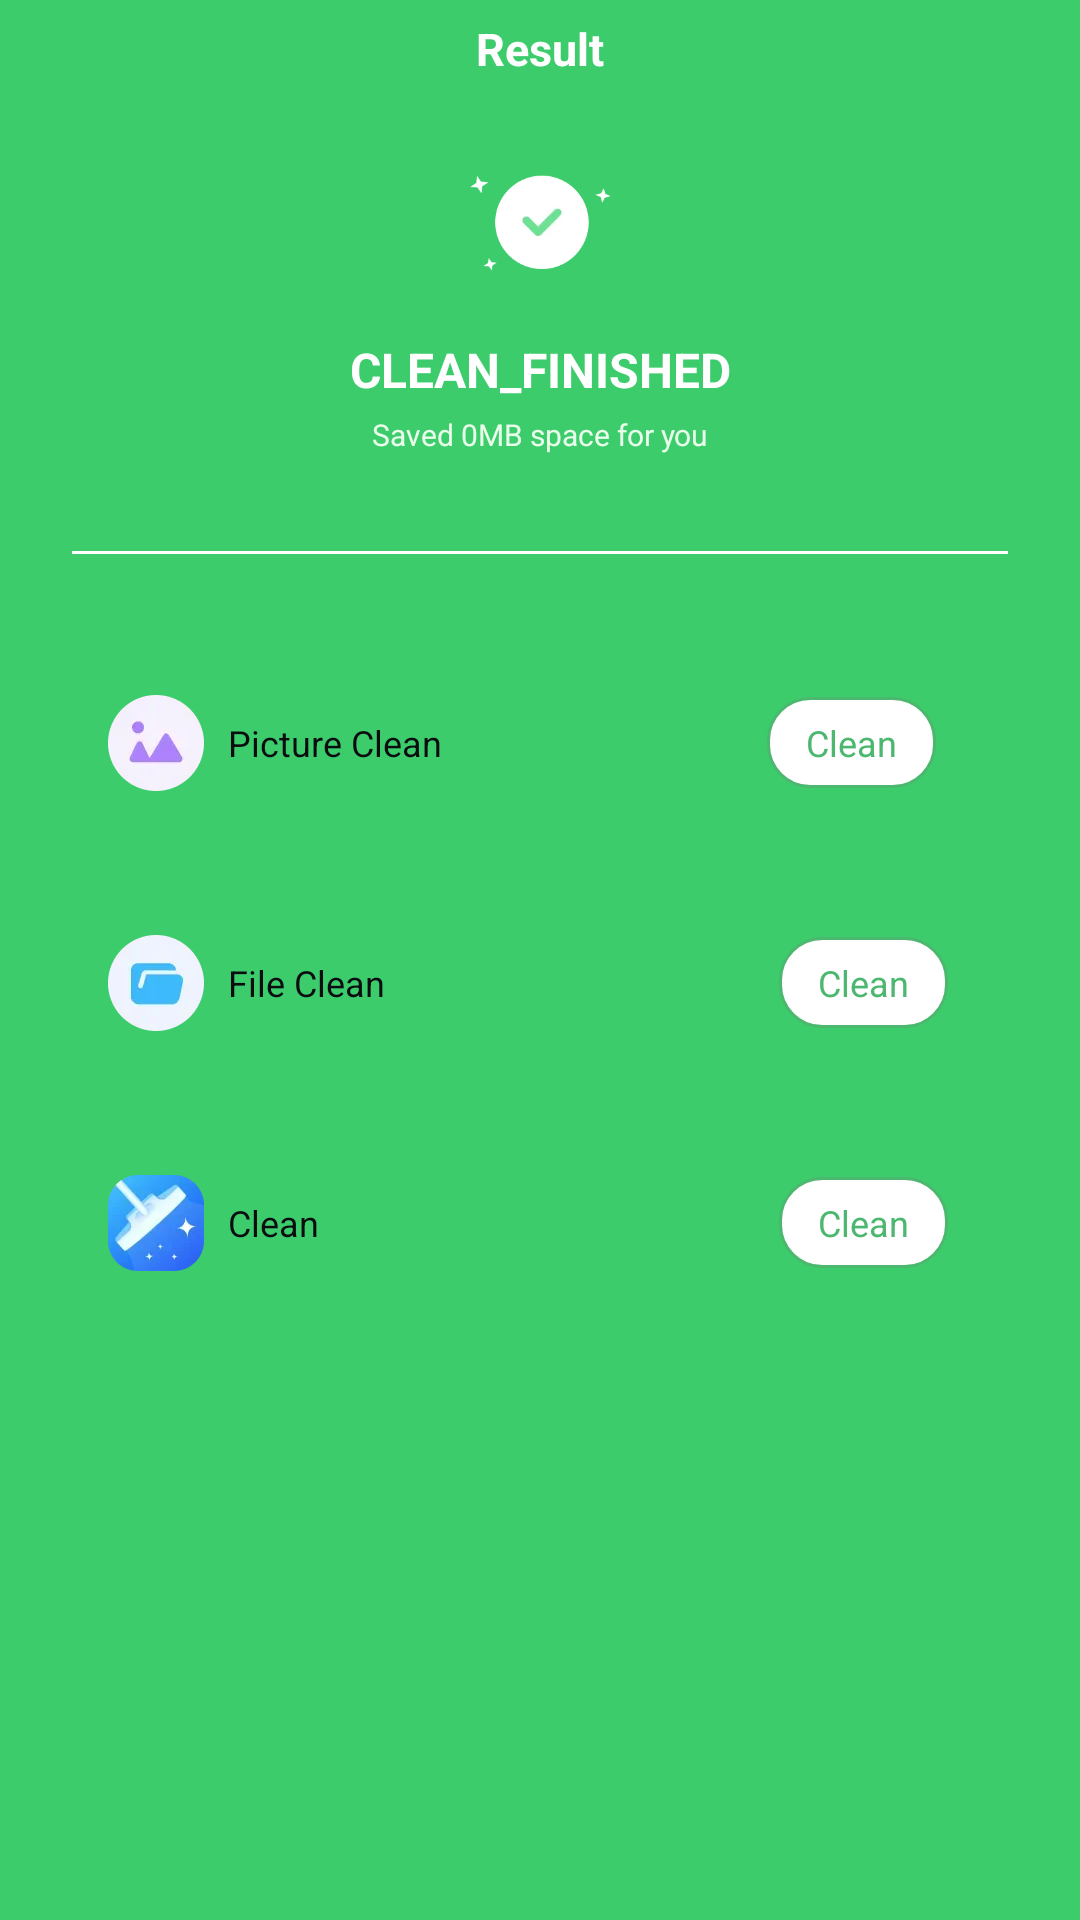

Icon bounding boxes for this 1080w x 1920h phone screenshot, format box=[x1, y1, x2, y2]:
finish end: box=[470, 175, 610, 271]
